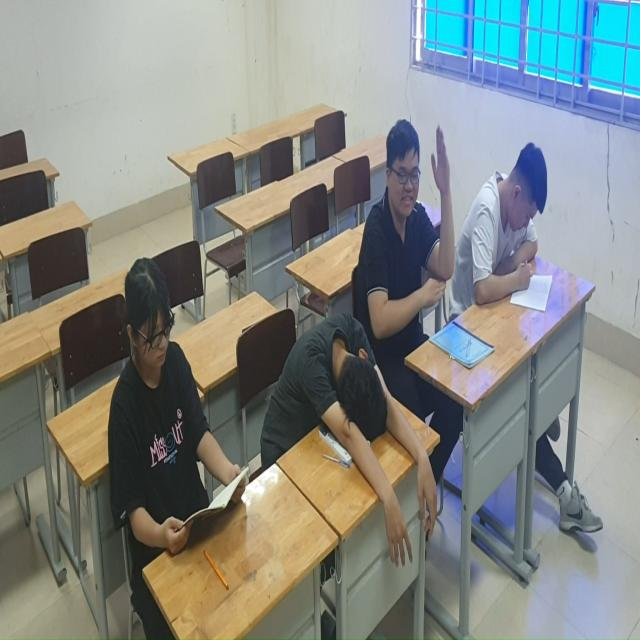raise_hand: (375, 120, 461, 334)
read: (109, 255, 252, 569), (457, 143, 561, 317)
sleep: (270, 306, 439, 570)
